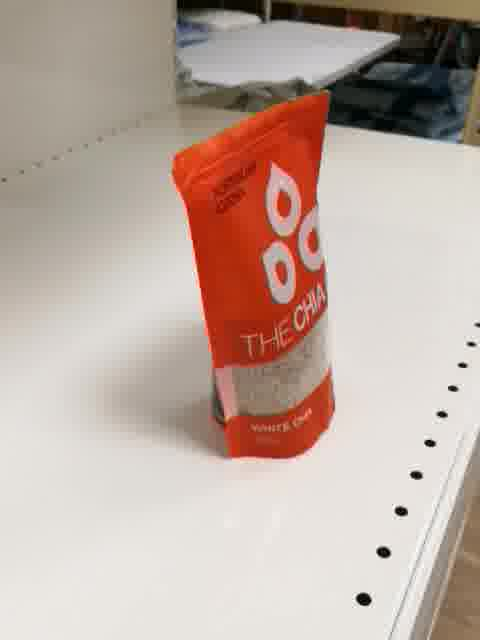whitechia: (167, 84, 340, 463)
